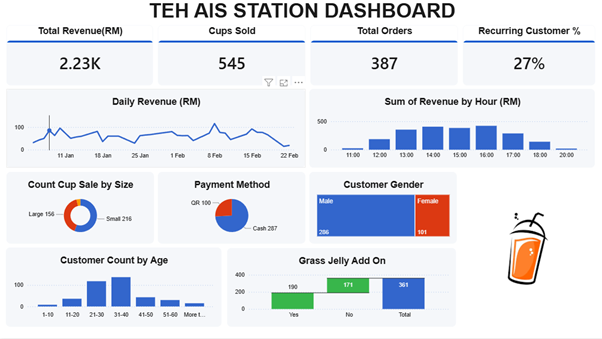

Layout of this report page (visuals, bound fields, positions):
{"tool":"powerbi","page":{"name":"Page 1","canvas":[1280,720],"ordinal":0},"visuals":[{"type":"cardVisual","title":"Total Revenue(RM)","fields":{"Data":["in.TotalRevenue"]},"box":[15,55,310,128],"z":0},{"type":"cardVisual","title":"Cups Sold","fields":{"Data":["in.CupsSold"]},"box":[335.2,55.4,312,128],"z":1000},{"type":"cardVisual","title":"Total Orders","fields":{"Data":["in.TotalOrder"]},"box":[657.9,55.4,312,128],"z":2000},{"type":"cardVisual","title":"Recurring Customer %","fields":{"Data":["in.RecurringCustomer%"]},"box":[980.5,55.4,280,128],"z":3000},{"type":"lineChart","title":"Daily Revenue (RM)","fields":{"Y":["Sum(in.AmountPaid)"],"Category":["in.Date"]},"box":[15,191,632,167],"z":4000},{"type":"columnChart","title":"Sum of Revenue by Hour (RM)","fields":{"Category":["in.HourLabel"],"Y":["Sum(in.AmountPaid)"]},"box":[655.2,190.6,604.5,166.9],"z":5000},{"type":"donutChart","title":"Count Cup Sale by Size","fields":{"Category":["in.Size"],"Y":["CountNonNull(in.Size)"]},"box":[15,366,312,152],"z":6000},{"type":"pieChart","title":"Payment Method","fields":{"Category":["in.PaymentMethod "],"Y":["CountNonNull(in.PaymentMethod )"]},"box":[335,366,312,152],"z":7000},{"type":"treemap","title":"Customer Gender","fields":{"Group":["in.Gender"],"Values":["CountNonNull(in.Gender)"]},"box":[655,366,312,152],"z":8000},{"type":"columnChart","title":"Customer Count by Age","fields":{"Category":["in.Age"],"Y":["CountNonNull(in.Age)"]},"box":[14,527,456,168],"z":9000},{"type":"waterfallChart","title":"Grass Jelly Add On","fields":{"Y":["CountNonNull(in.AddOnCincau)"],"Category":["in.AddOnCincau"]},"box":[481.4,527.4,484.4,167.3],"z":10000},{"type":"textbox","box":[0,0,1280,56],"z":11000},{"type":"image","box":[963,360,306,335],"z":12000}]}

Visuals, with their boxes in screenshot pixels (x1, y1, x2, y2), scaled from the page's 1280x720 canvas onto the 602x339 screenshot:
"Total Revenue(RM)" cardVisual: l=7, t=26, r=153, b=86
"Cups Sold" cardVisual: l=158, t=26, r=304, b=86
"Total Orders" cardVisual: l=309, t=26, r=456, b=86
"Recurring Customer %" cardVisual: l=461, t=26, r=593, b=86
"Daily Revenue (RM)" lineChart: l=7, t=90, r=304, b=169
"Sum of Revenue by Hour (RM)" columnChart: l=308, t=90, r=592, b=168
"Count Cup Sale by Size" donutChart: l=7, t=172, r=154, b=244
"Payment Method" pieChart: l=158, t=172, r=304, b=244
"Customer Gender" treemap: l=308, t=172, r=455, b=244
"Customer Count by Age" columnChart: l=7, t=248, r=221, b=327
"Grass Jelly Add On" waterfallChart: l=226, t=248, r=454, b=327
textbox: l=0, t=0, r=601, b=26
image: l=453, t=170, r=597, b=327
